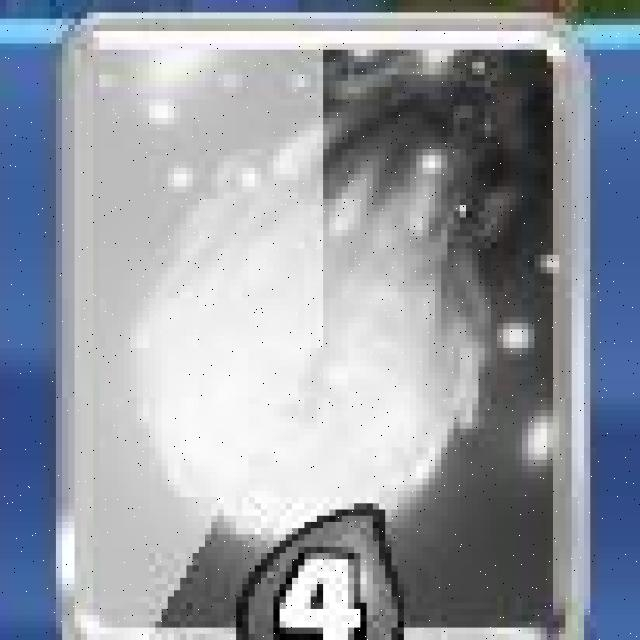Fireball: (61, 12, 590, 640)
